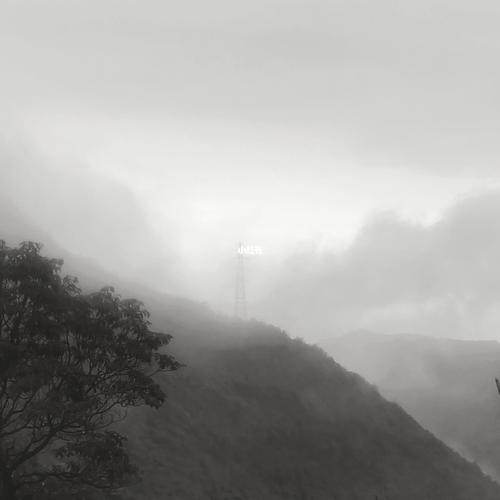mountain: (133, 315, 466, 499)
